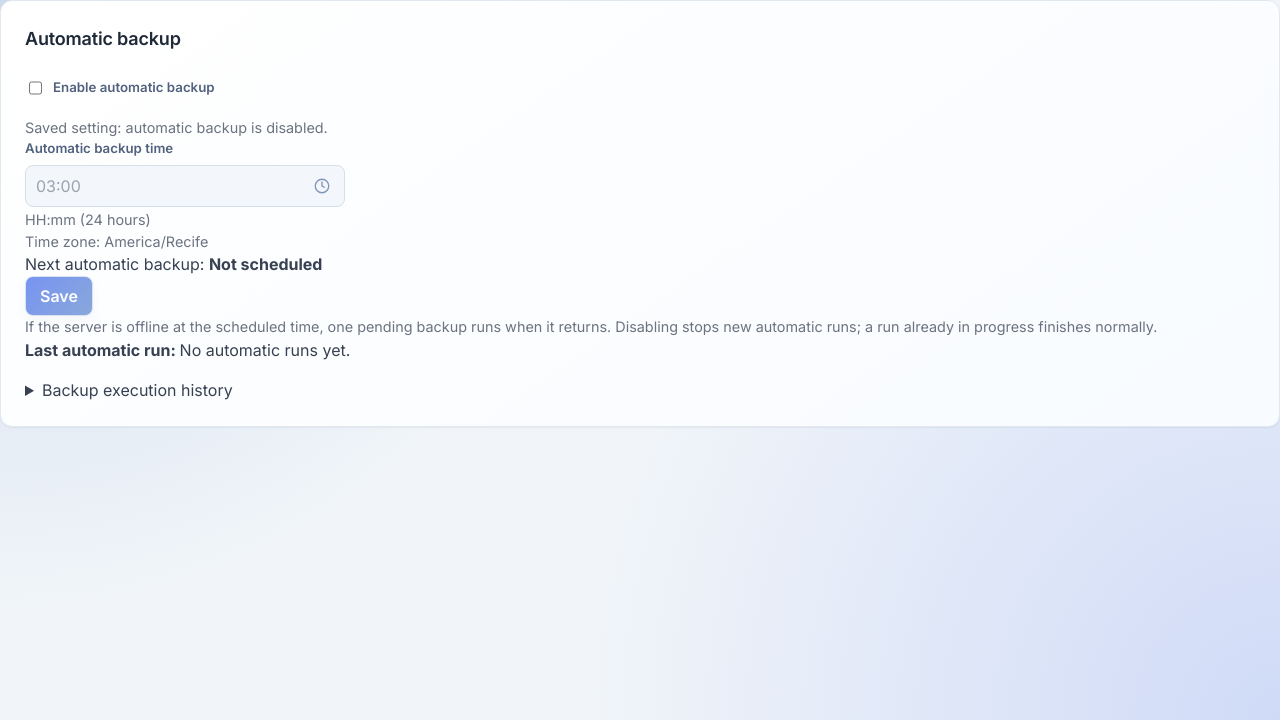
backup scheduling in en › uses the existing modal to pick hours 00–23 and minutes without AM/PM
Click the checkbox labelled "Enable automatic backup" at (36, 88), box [29,68,42,108]
Wait 20 ms
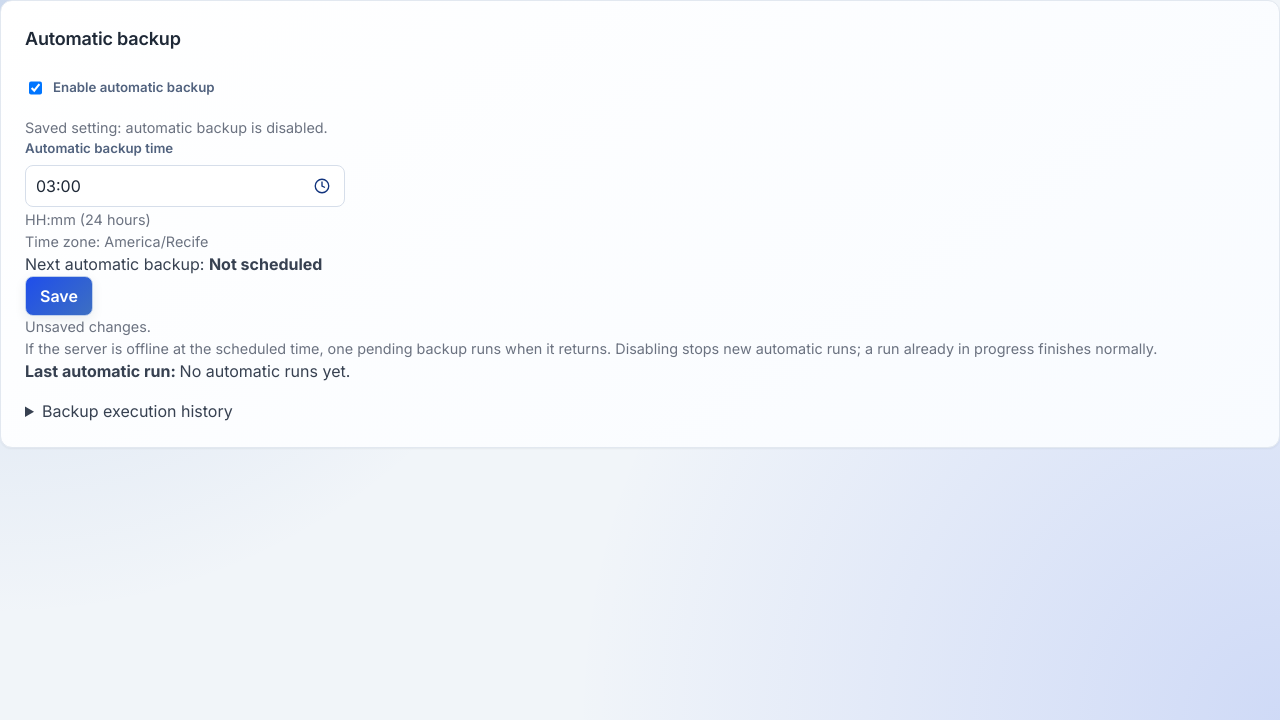
Click the button named "Open time picker" at (322, 186), box [304,168,340,204]
Wait 20 ms
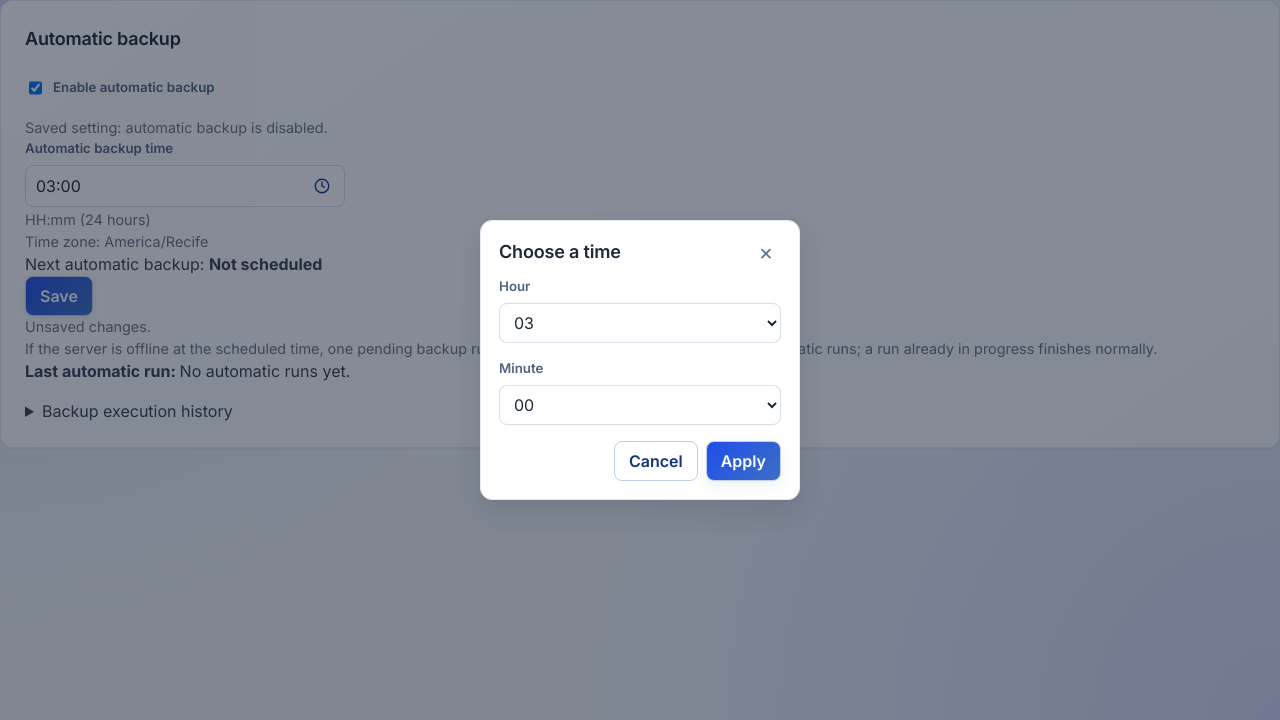
Select "23" in the dropdown with id "backup-schedule-time-hour" at (640, 323), box [499,303,781,343]
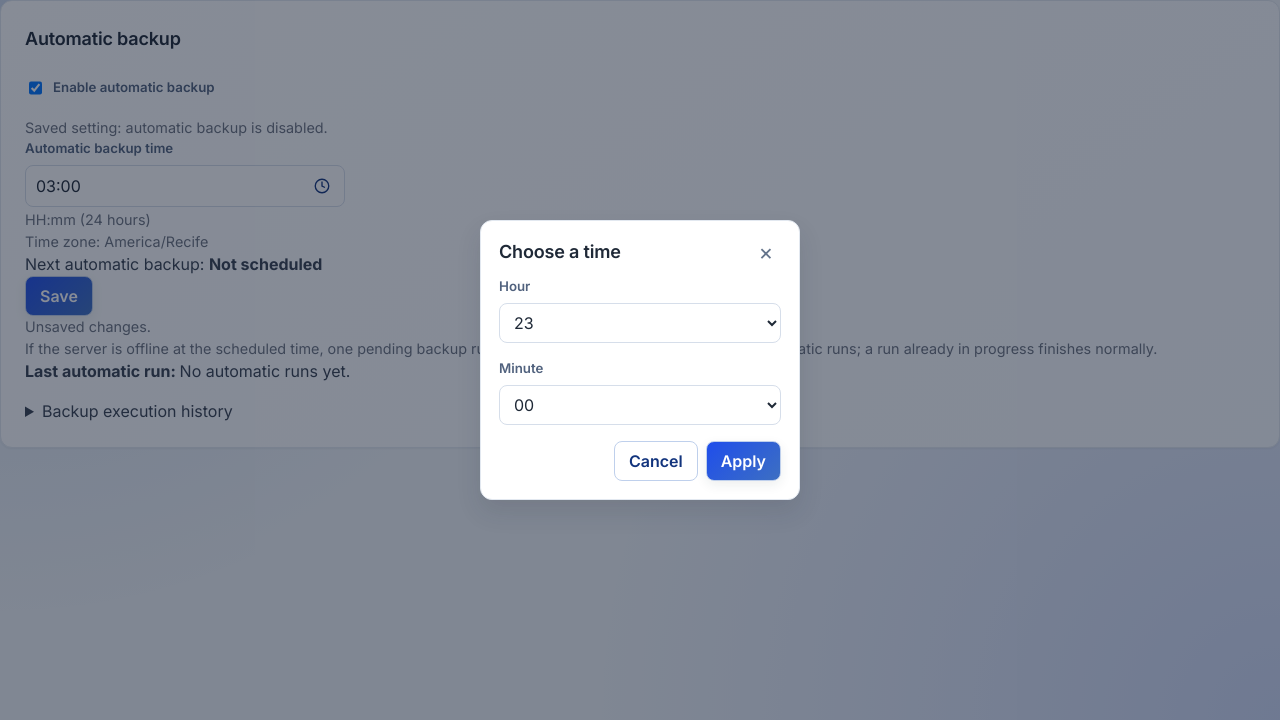
Select "59" in the dropdown with id "backup-schedule-time-minute" at (640, 405), box [499,385,781,425]
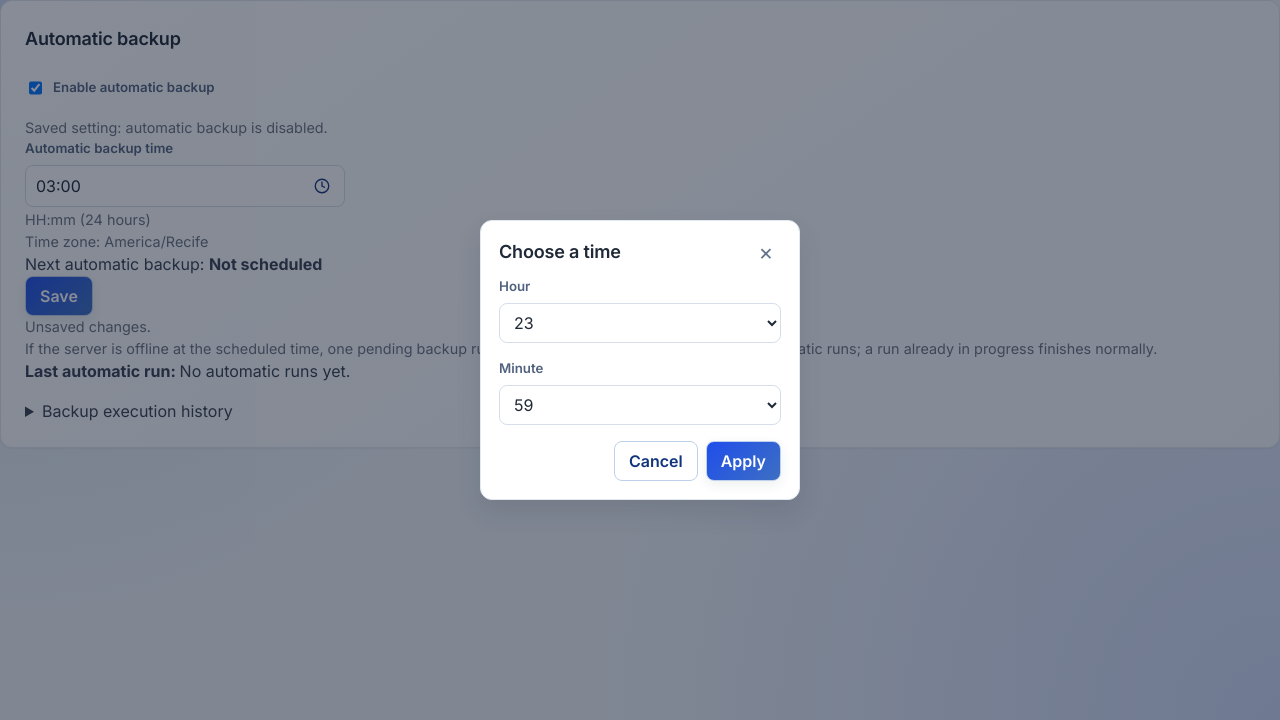
Click the button "Apply" at (743, 461), box [706,441,781,481]
Wait 20 ms
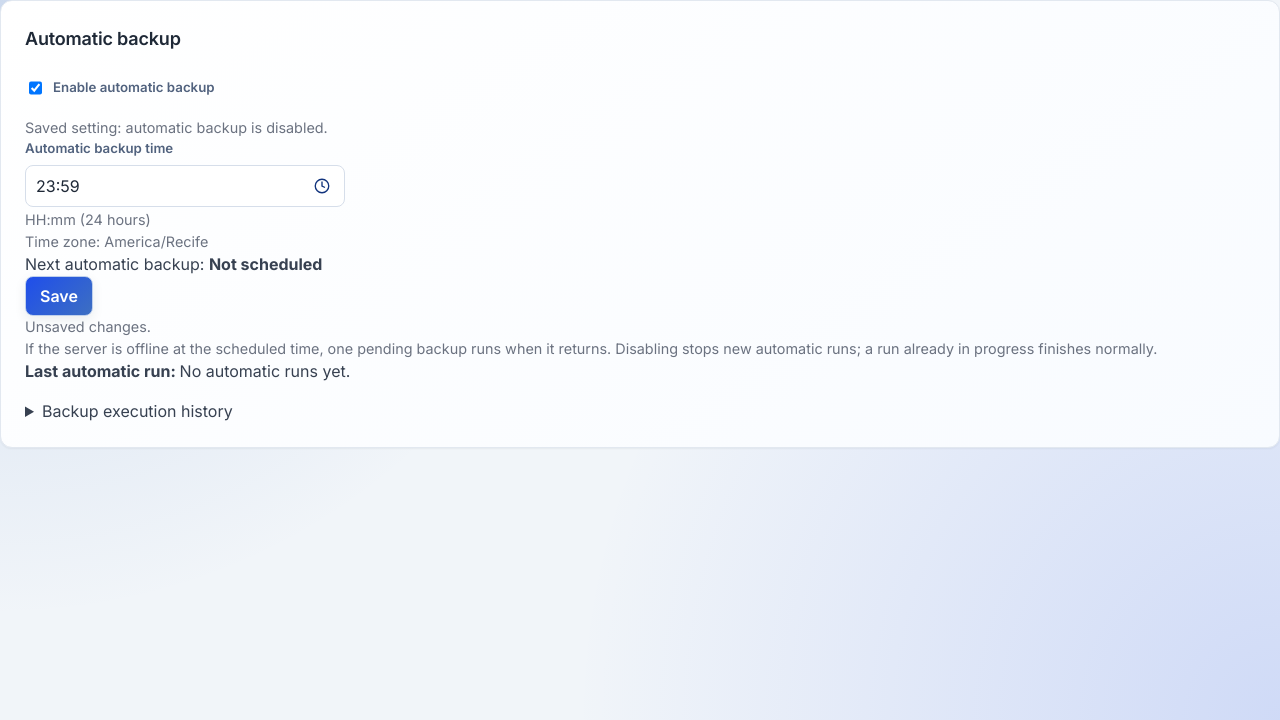
Expected: the field with id "backup-schedule-time" holds "23:59", [25,164,345,206]
Expected: the dialog is gone
